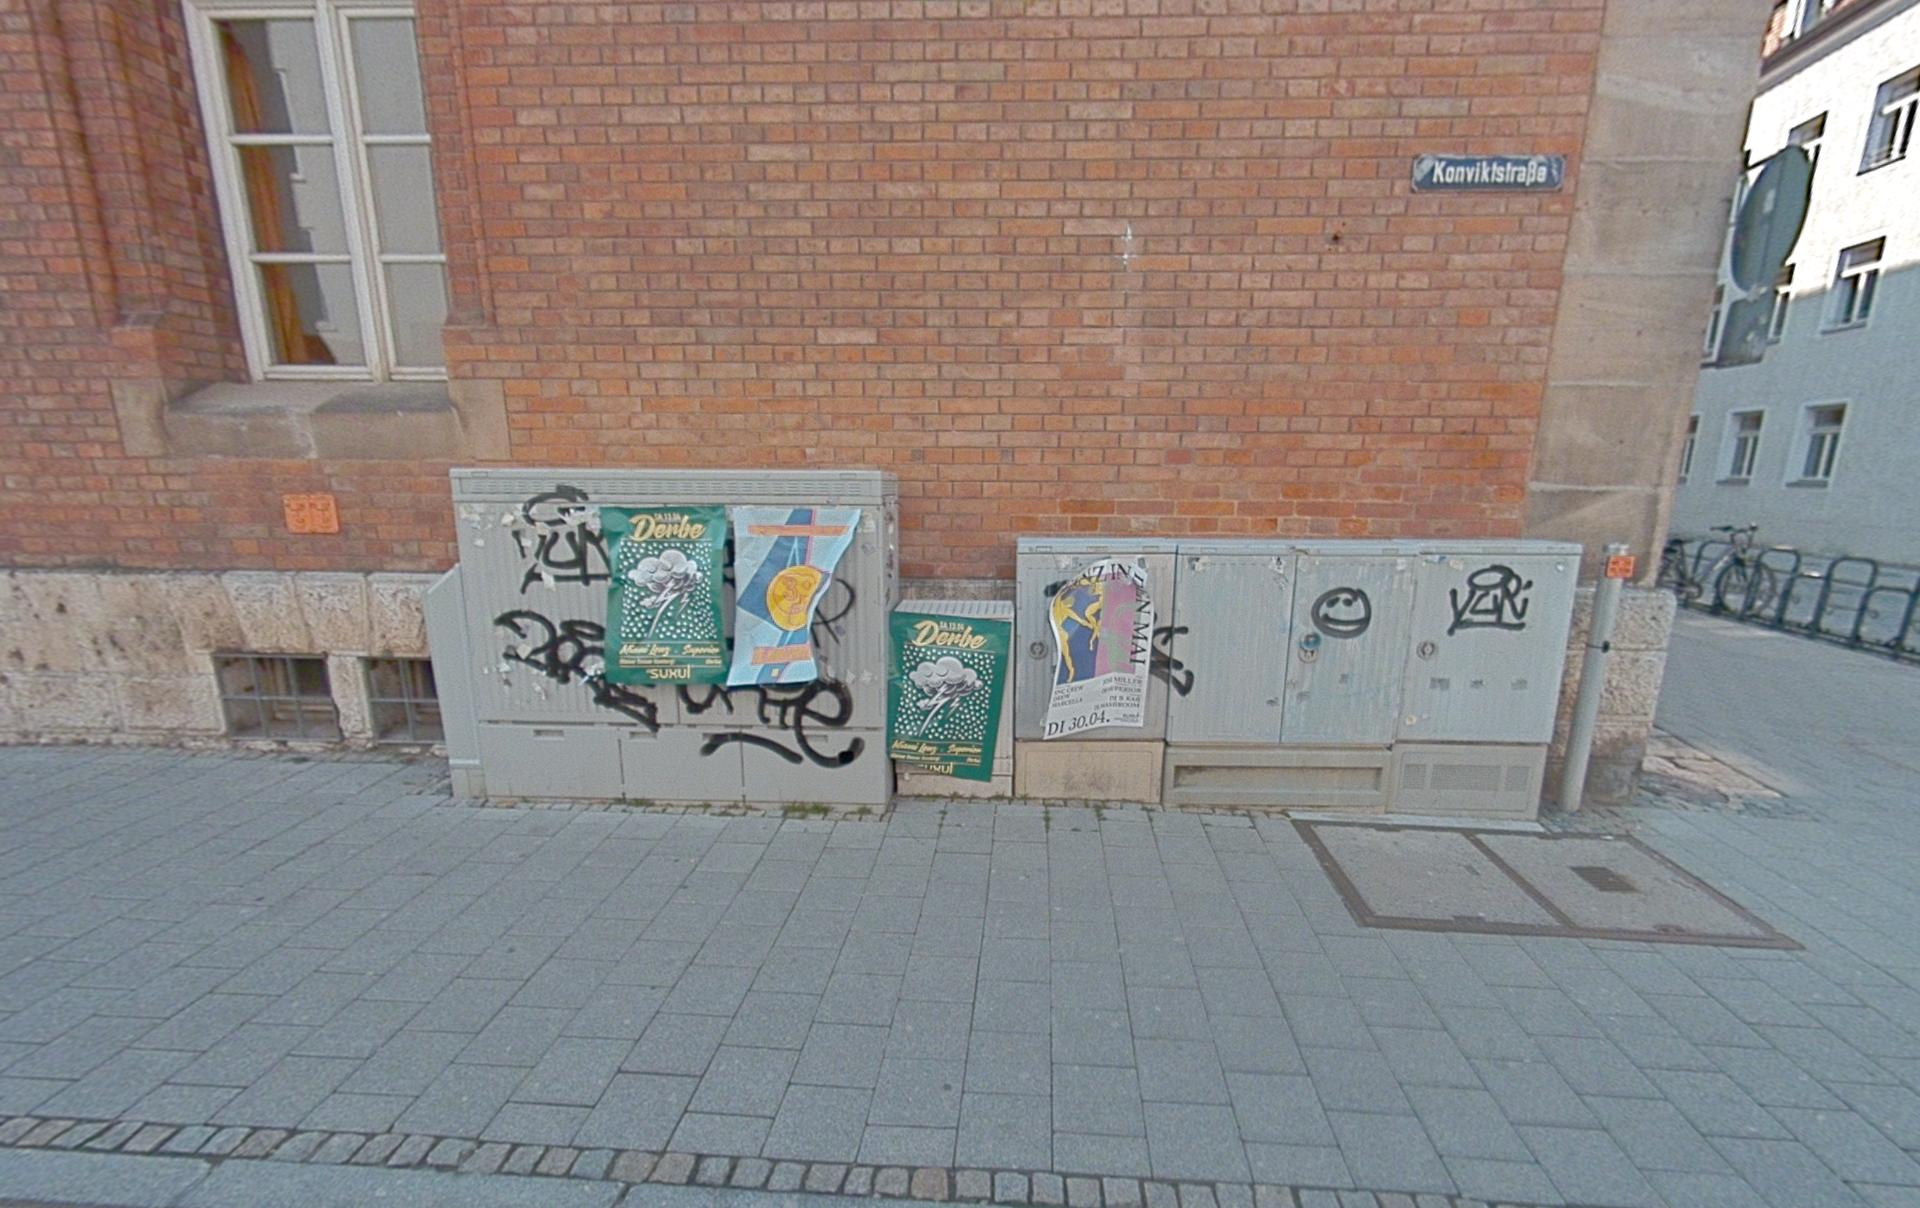traffic sign: (1411, 152, 1567, 192)
